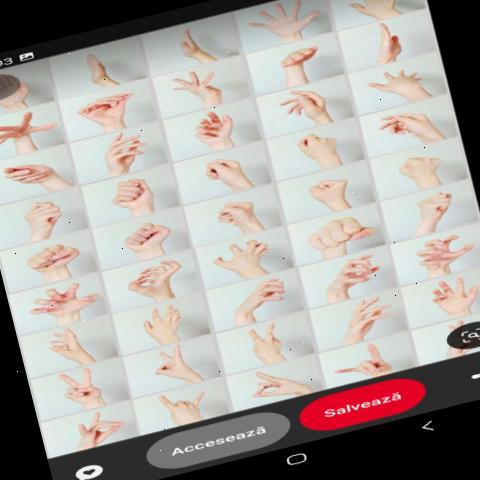Hands: (312, 254, 399, 304), (265, 84, 354, 132), (330, 292, 404, 344), (81, 134, 168, 178), (203, 233, 289, 277), (131, 299, 202, 349), (416, 234, 480, 280), (0, 109, 70, 149), (372, 59, 434, 103), (420, 278, 480, 322), (187, 113, 253, 152)
